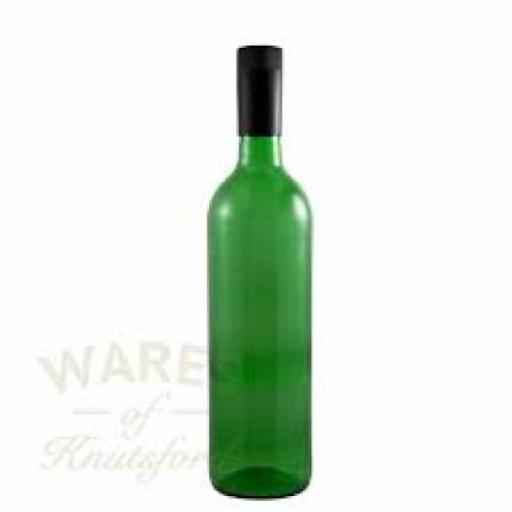glass: (202, 46, 310, 498)
